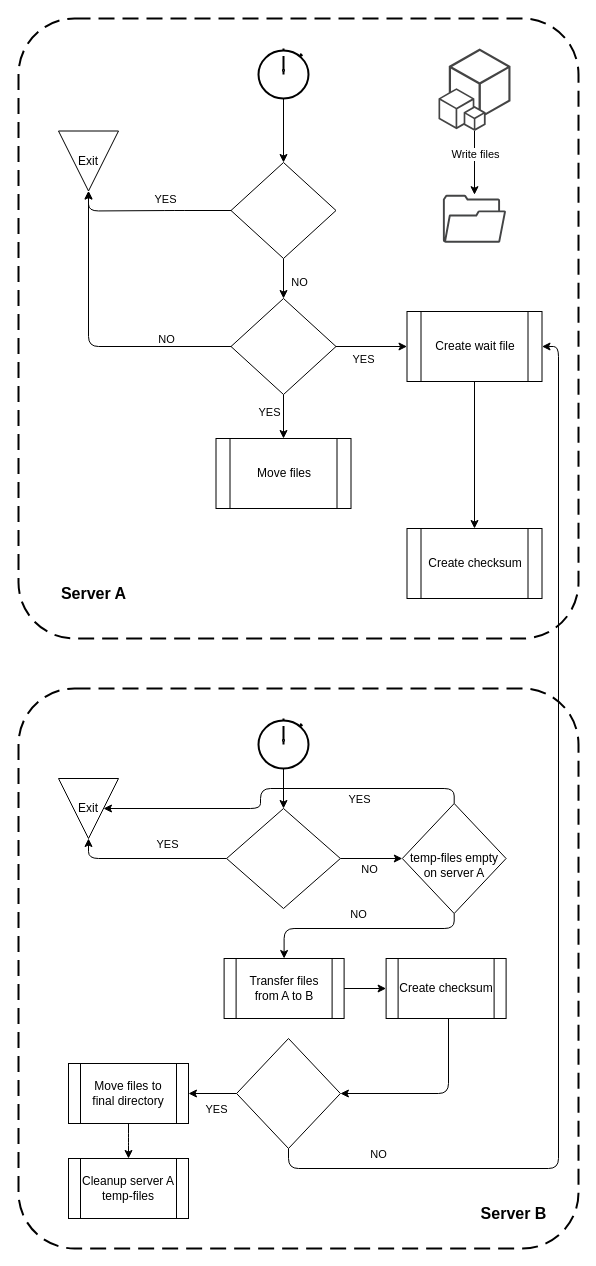
Image size: 596x1266. Some labels were removed from this diagram. Each missing label, with the centre of its shape:
checksum valid: point (288, 1093)
received-files: point (474, 218)
received-files empty: point (283, 210)
temp-files empty?: point (283, 346)
wait file exist on server A: point (283, 858)
